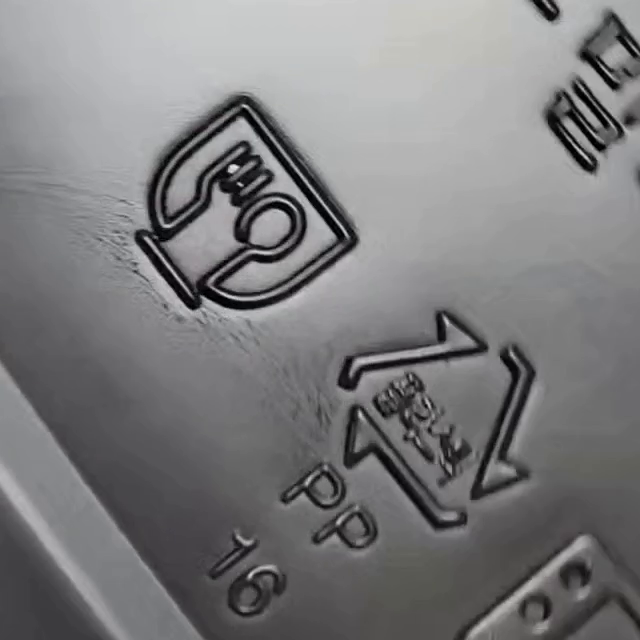Plastic: (337, 309, 538, 530)
